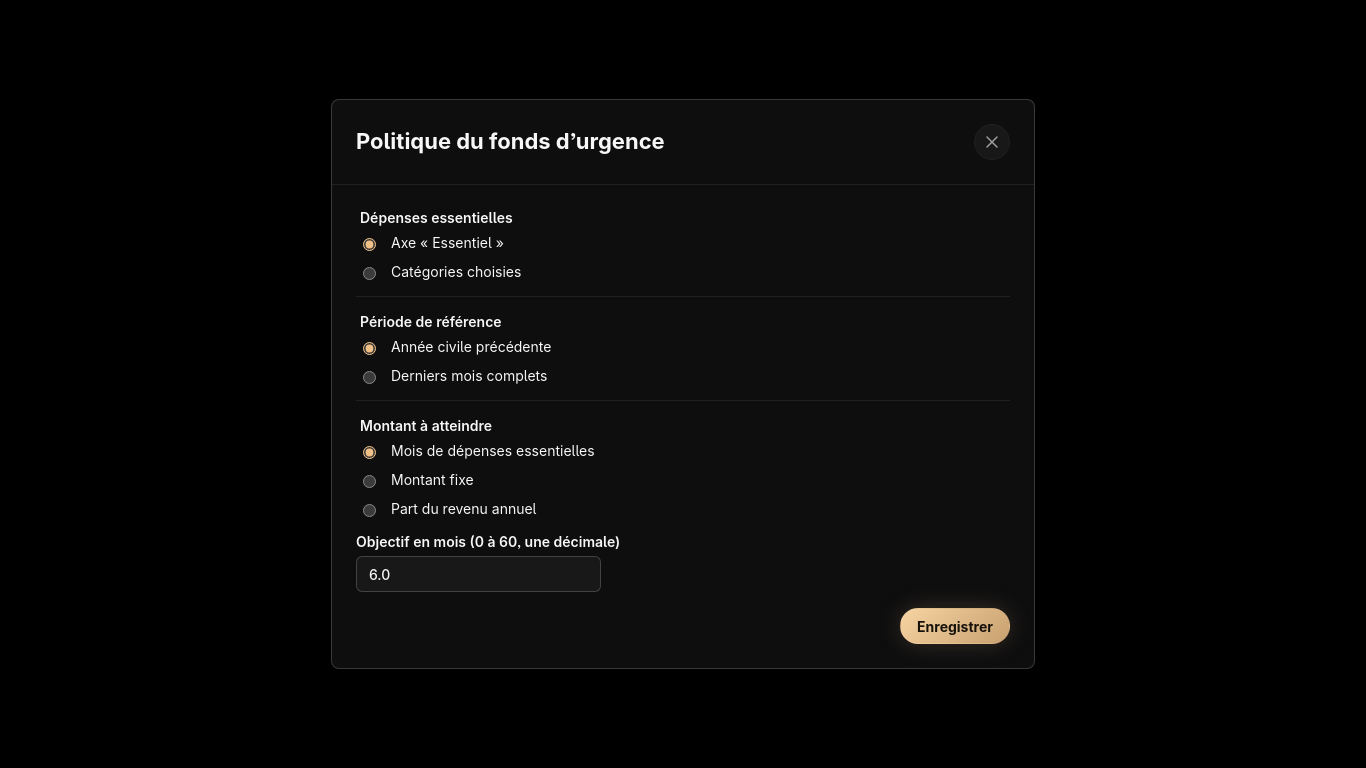
Test case: EmergencyFundPolicyModal › says the policy changed elsewhere on a 409 and keeps the modal open
Expected: the field labelled "Objectif en mois (0 à 60, une décimale)" is shown, [356,556,601,592]
Click the button "Enregistrer" at (955, 626), box [900,608,1010,644]
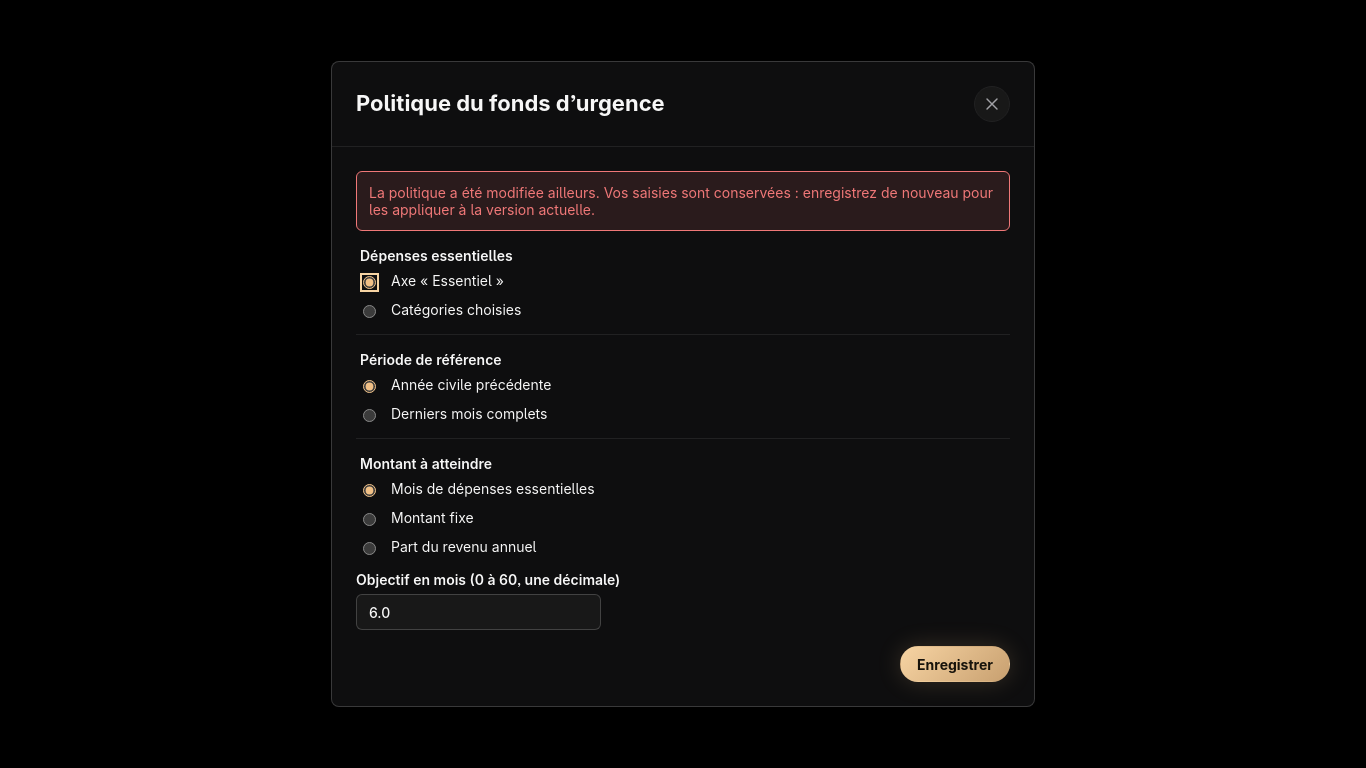
Result: the text "modifiée ailleurs" is shown at [369,184,993,218]
